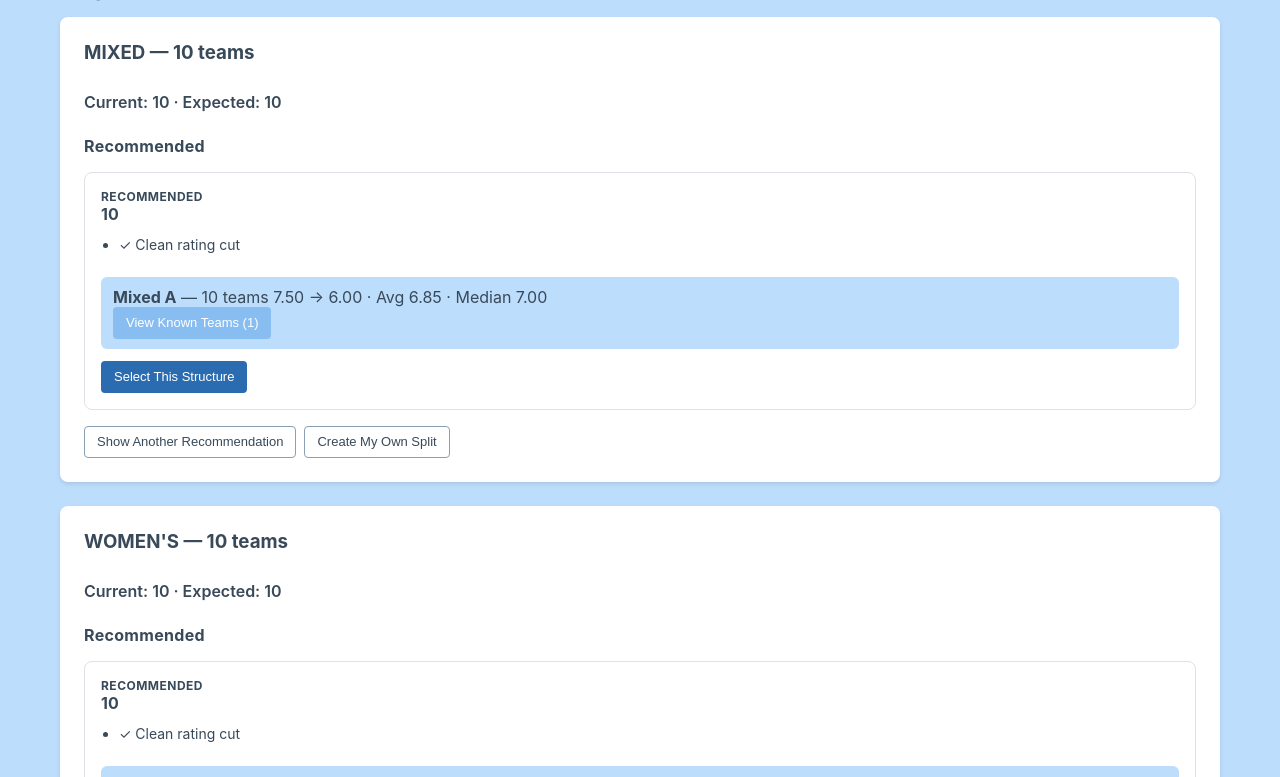
Test: CreateTournamentFromRwOs Step 3 workflow › keeps Proceed unavailable until every required category is selected
The image size is (1280, 777).
(page scrolled)
Click the button "Select This Structure" at (174, 377), box [101,361,247,393]
(page scrolled)
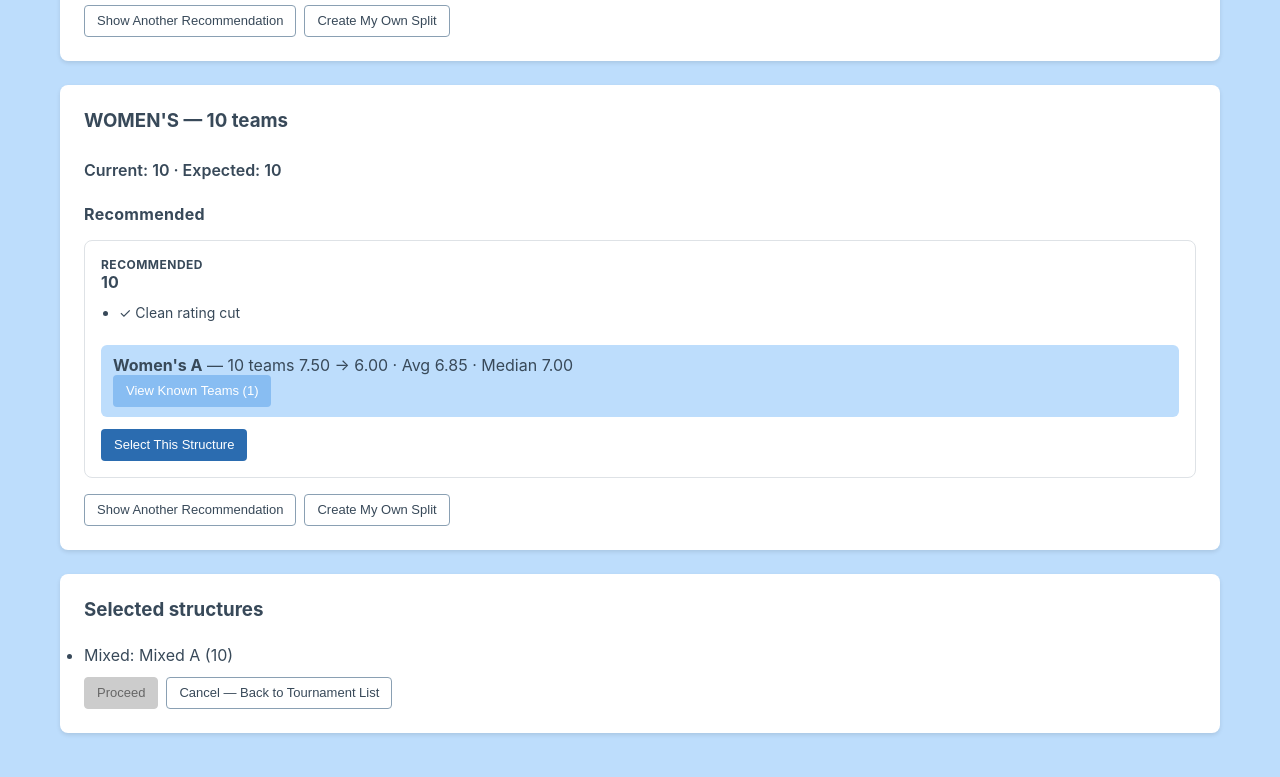
Expected: the button with test id "proceed-plan" is disabled, [84,677,158,709]
Click the button "Select This Structure" at (174, 445), box [101,429,247,461]
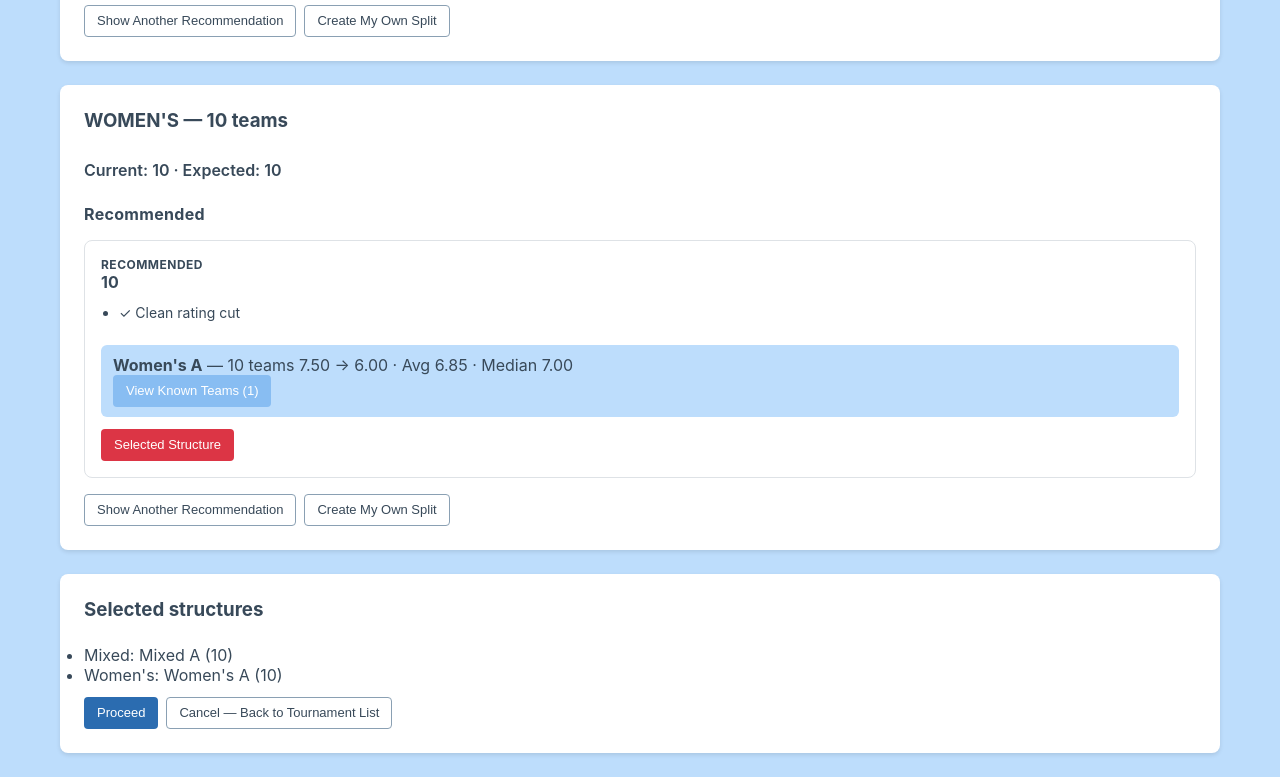
Expected: the button with test id "proceed-plan" is enabled, [84,697,158,729]
